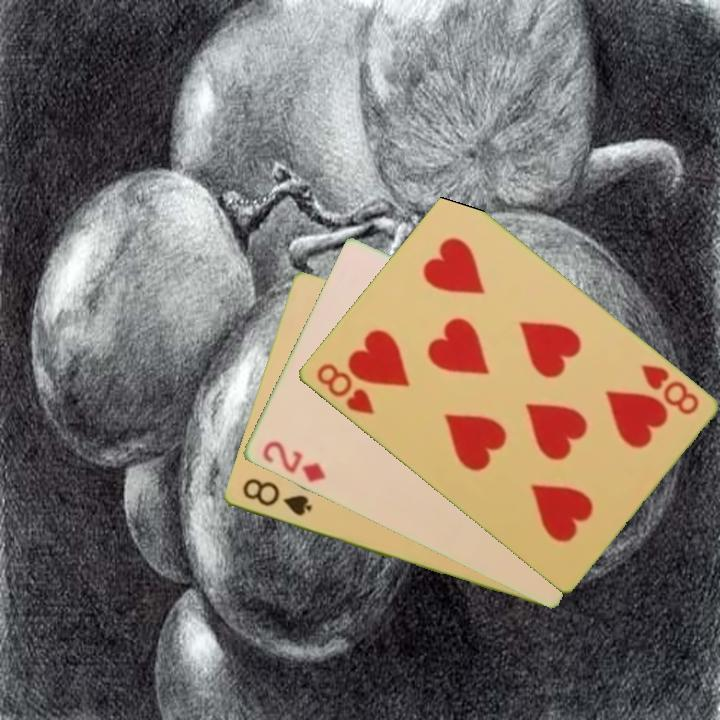2d: (258, 437, 328, 486)
8h: (312, 360, 377, 418), (637, 361, 702, 418)
8s: (238, 475, 314, 519)
